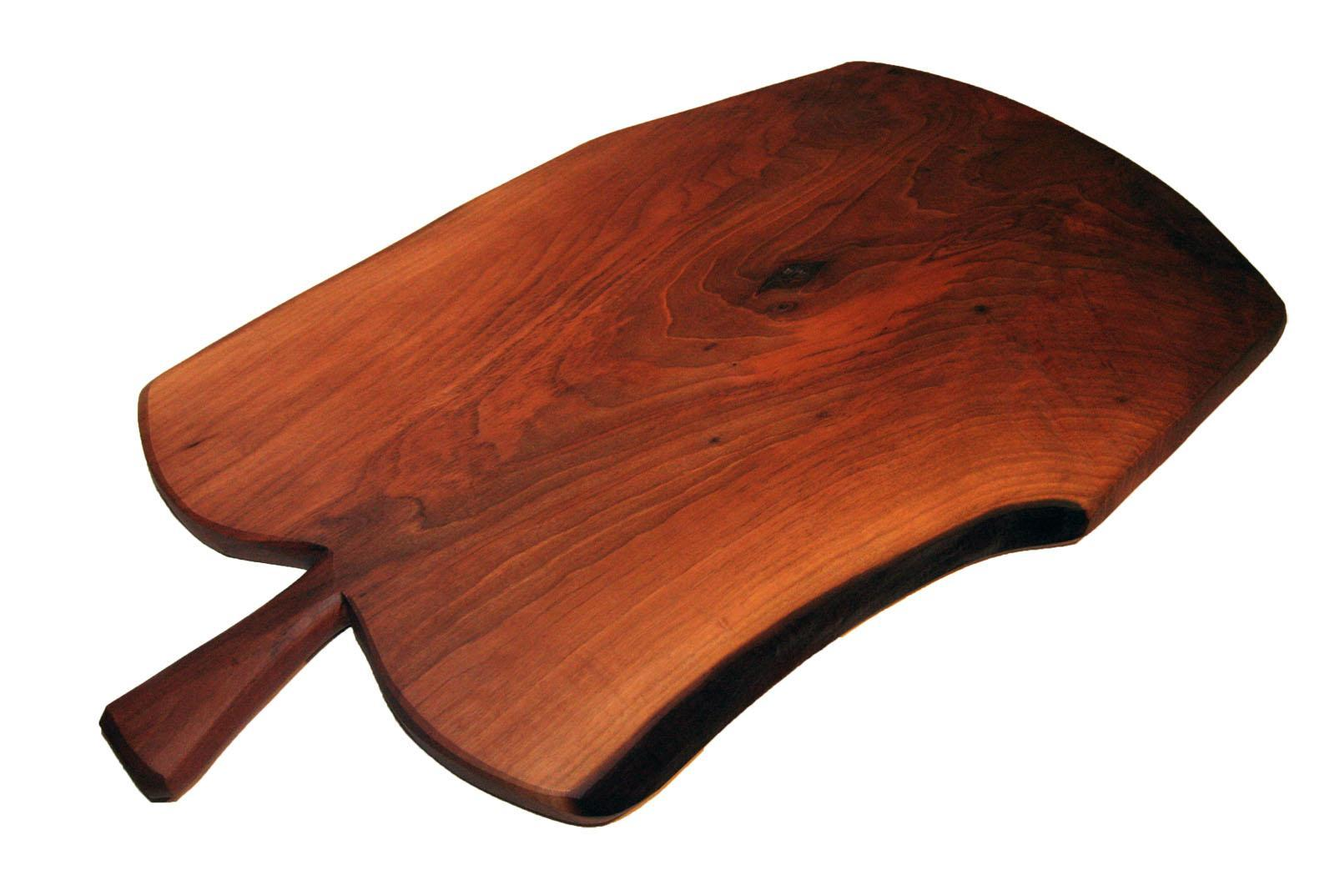gloved_hand: (90, 57, 1299, 851)
